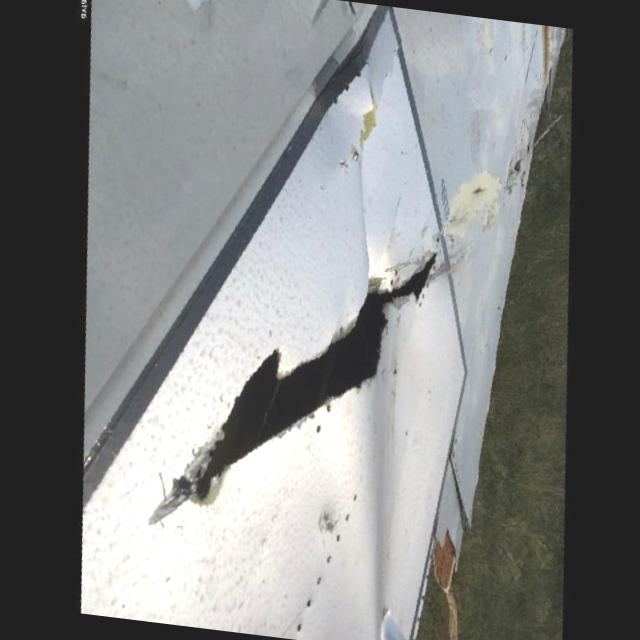crack: (161, 221, 442, 538), (468, 184, 488, 200)
